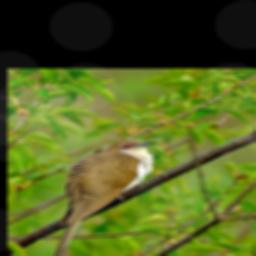Cuckoo: (47, 138, 159, 256)
